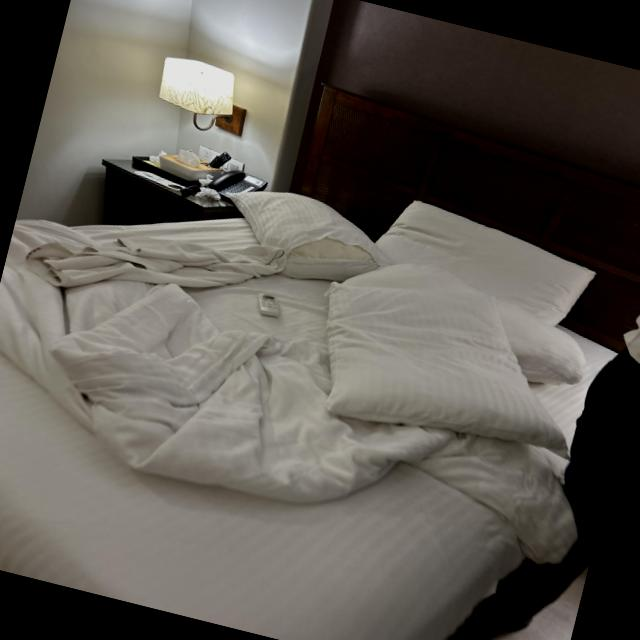mess: (0, 209, 501, 640), (196, 149, 620, 469), (103, 102, 308, 256)
